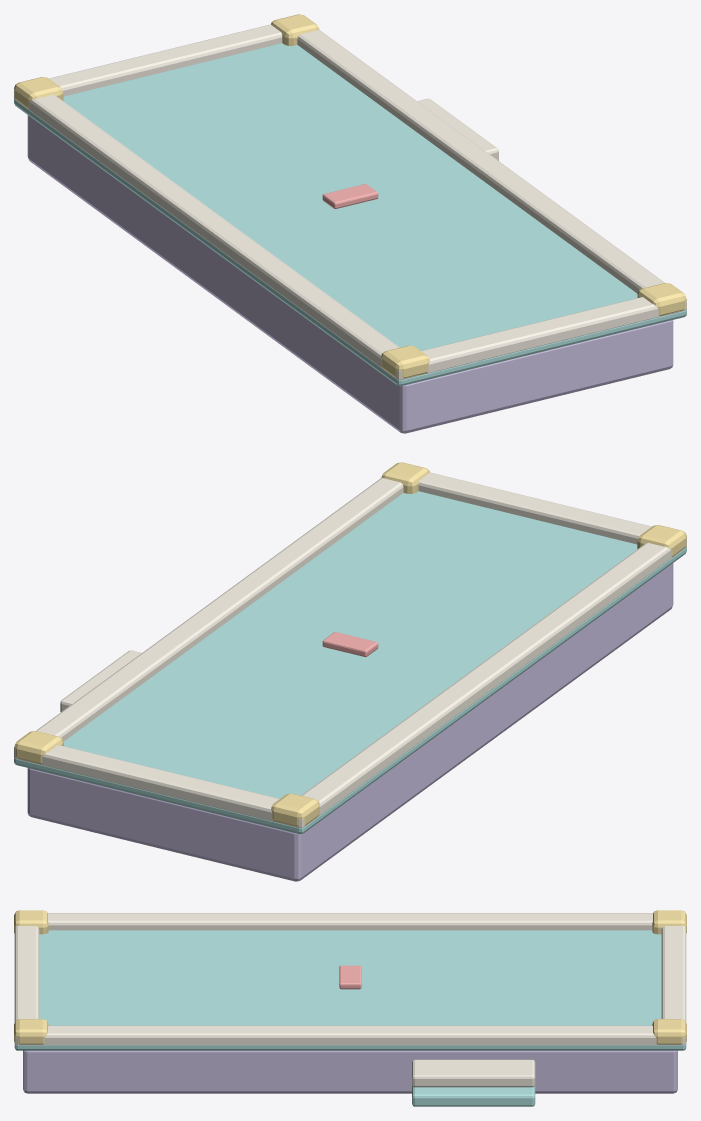
The model's file is station_platform.glb.
3 views of the same model, one above another, from view 1: azimuth 30°, elevation 25°; view 2: azimuth 150°, elevation 25°; view 3: azimuth 270°, elevation 25° (orthographic). The views are drawn at different scales.
Parts seen in each view (by area): view 1: deck, skirt, rimx0, rimx1, rimz1, rimz0, cap1, cap3, cap0, step1, tag, cap2; view 2: deck, skirt, rimx0, rimx1, rimz0, rimz1, cap0, cap2, cap1, step1, tag, cap3; view 3: deck, skirt, rimx1, rimx0, step1, step0, rimz0, rimz1, cap2, cap3, cap0, cap1 (+1 smaller).
Boxes of the visible parts, x1=… form: deck: x1=14, y1=43, x2=686, y2=386; skirt: x1=27, y1=115, x2=673, y2=433; rimx0: x1=14, y1=89, x2=419, y2=379; rimx1: x1=297, y1=30, x2=686, y2=314; rimz1: x1=421, y1=297, x2=660, y2=373; rimz0: x1=49, y1=24, x2=282, y2=96; cap1: x1=381, y1=345, x2=429, y2=378; cap3: x1=637, y1=283, x2=686, y2=316; cap0: x1=14, y1=77, x2=63, y2=108; step1: x1=417, y1=98, x2=498, y2=160; tag: x1=322, y1=184, x2=378, y2=208; cap2: x1=271, y1=14, x2=319, y2=45; deck: x1=14, y1=491, x2=686, y2=834; skirt: x1=27, y1=563, x2=673, y2=881; rimx0: x1=281, y1=537, x2=686, y2=827; rimx1: x1=14, y1=478, x2=403, y2=762; rimz0: x1=40, y1=745, x2=279, y2=821; rimz1: x1=418, y1=472, x2=651, y2=544; cap0: x1=271, y1=793, x2=319, y2=826; cap2: x1=14, y1=731, x2=63, y2=764; cap1: x1=637, y1=525, x2=686, y2=556; step1: x1=60, y1=650, x2=141, y2=711; tag: x1=322, y1=632, x2=378, y2=656; cap3: x1=381, y1=462, x2=429, y2=493; deck: x1=14, y1=930, x2=686, y2=1050; skirt: x1=23, y1=1050, x2=677, y2=1093; rimx1: x1=14, y1=1025, x2=686, y2=1045; rimx0: x1=47, y1=913, x2=653, y2=930; step1: x1=412, y1=1059, x2=535, y2=1087; step0: x1=412, y1=1085, x2=535, y2=1106; rimz0: x1=661, y1=925, x2=686, y2=1022; rimz1: x1=14, y1=925, x2=39, y2=1022; cap2: x1=652, y1=1019, x2=686, y2=1044; cap3: x1=14, y1=1019, x2=48, y2=1044; cap0: x1=652, y1=910, x2=686, y2=934; cap1: x1=14, y1=910, x2=48, y2=934.
Size of the model in its own units: 5.93 by 1.33 by 12.02.
